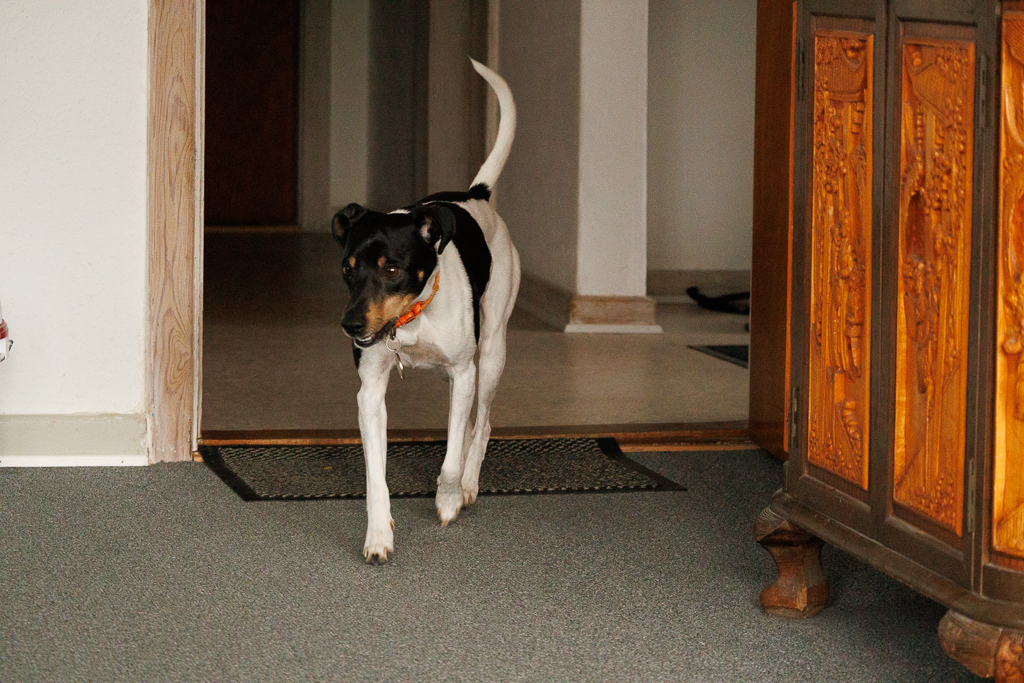Dog: (317, 39, 536, 579)
